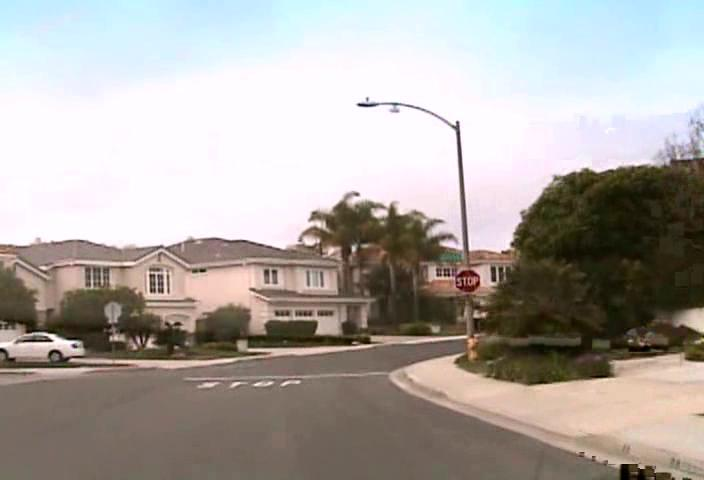stop: (454, 268, 480, 294)
